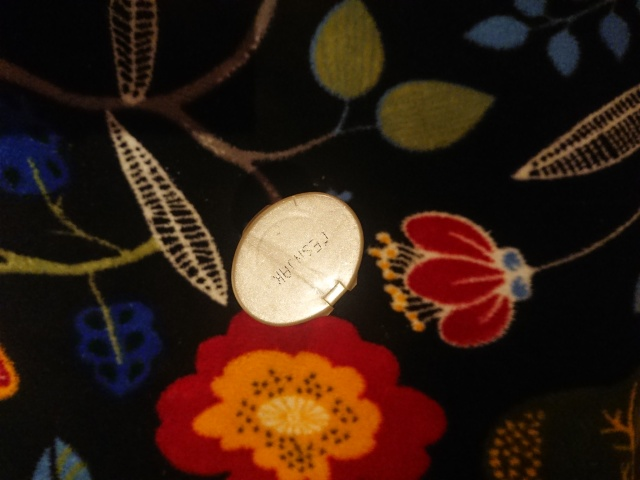Kotanyi Garlic Granules 70g: (229, 187, 367, 330)
